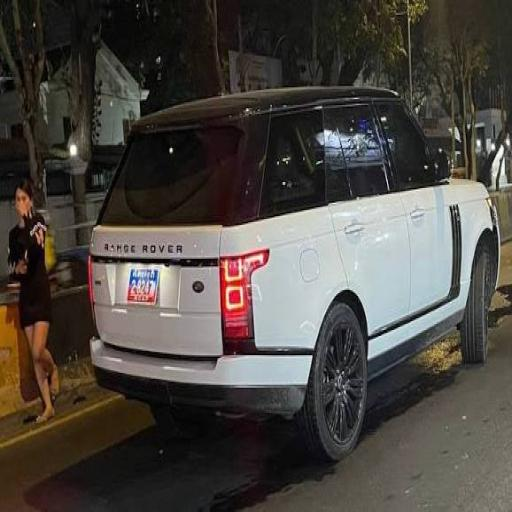Plate Number: (123, 270, 159, 305)
